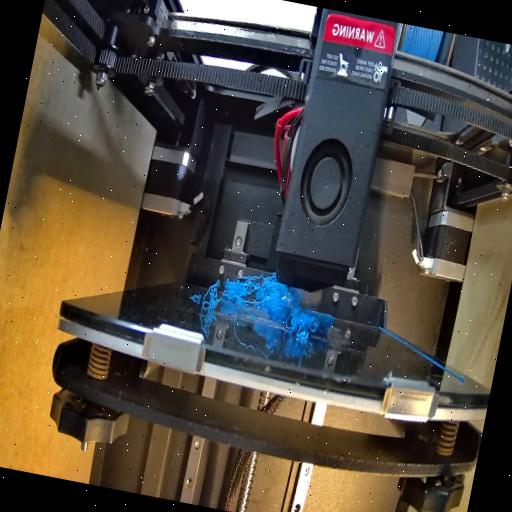spaghetti: (218, 268, 296, 324), (282, 297, 324, 344), (202, 276, 228, 313)
